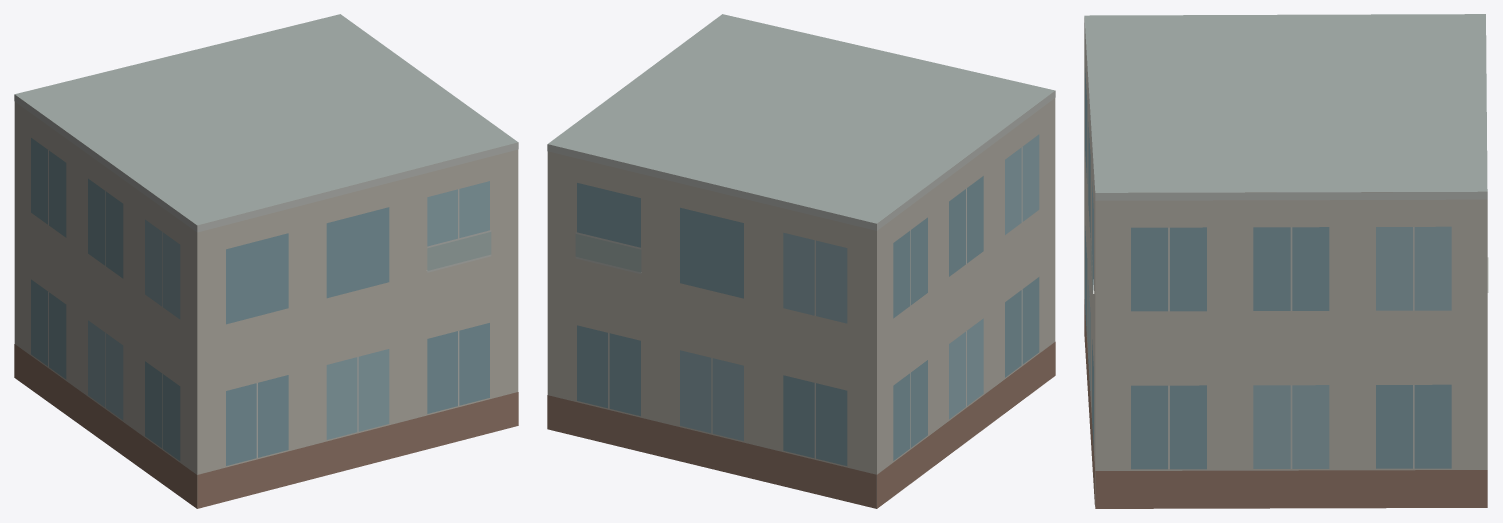
File: survey-upis-32495584.glb
3 renders of one model, left to right at view 1: azimuth 30°, elevation 25°; view 2: azimuth 150°, elevation 25°; view 3: azimuth 270°, elevation 25°, orthographic. The views are drawn at different scales.
Parts seen in each view (by area): view 1: survey-upis-32495584.tmp; view 2: survey-upis-32495584.tmp; view 3: survey-upis-32495584.tmp.
Boxes of the visible parts, left/top/right/bottom form: survey-upis-32495584.tmp: left=14, top=14, right=518, bottom=508; survey-upis-32495584.tmp: left=547, top=14, right=1055, bottom=508; survey-upis-32495584.tmp: left=1084, top=14, right=1488, bottom=508.
Size of the model in its own units: 11.79 by 9.7 by 11.26.
